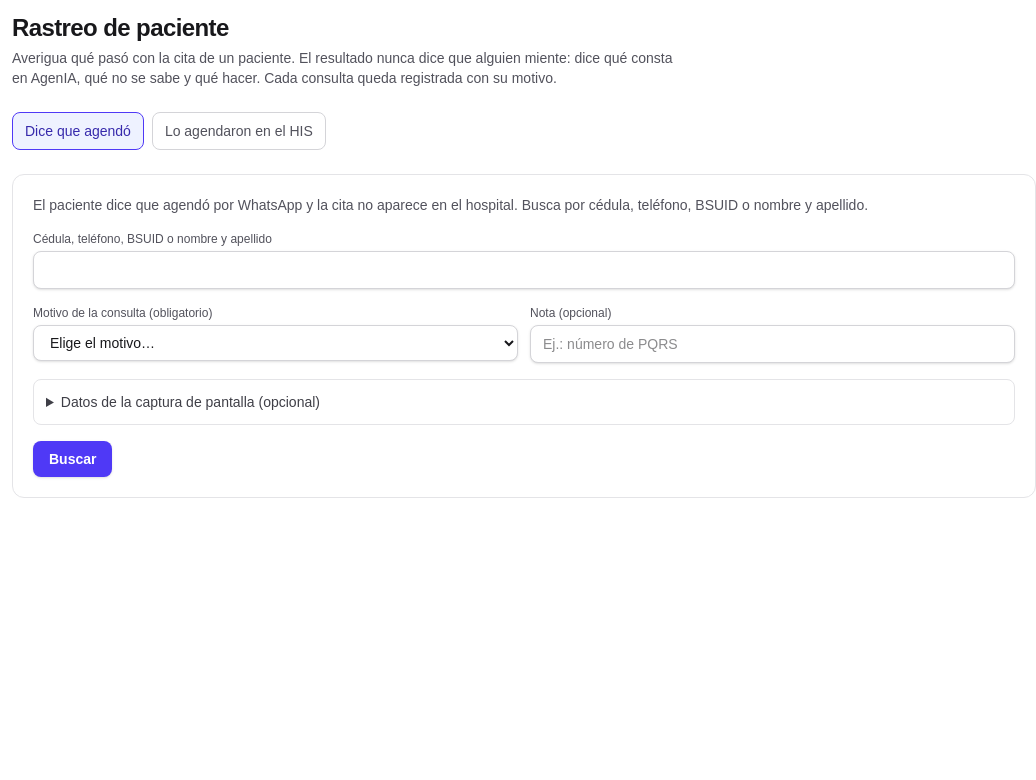
Test: RastreoClient — el formulario › sin nada escrito no se busca
Select "Reclamo o PQRS" in the dropdown labelled "Motivo de la consulta (obligatorio)". click: (276,343)
box: [33, 325, 518, 361]
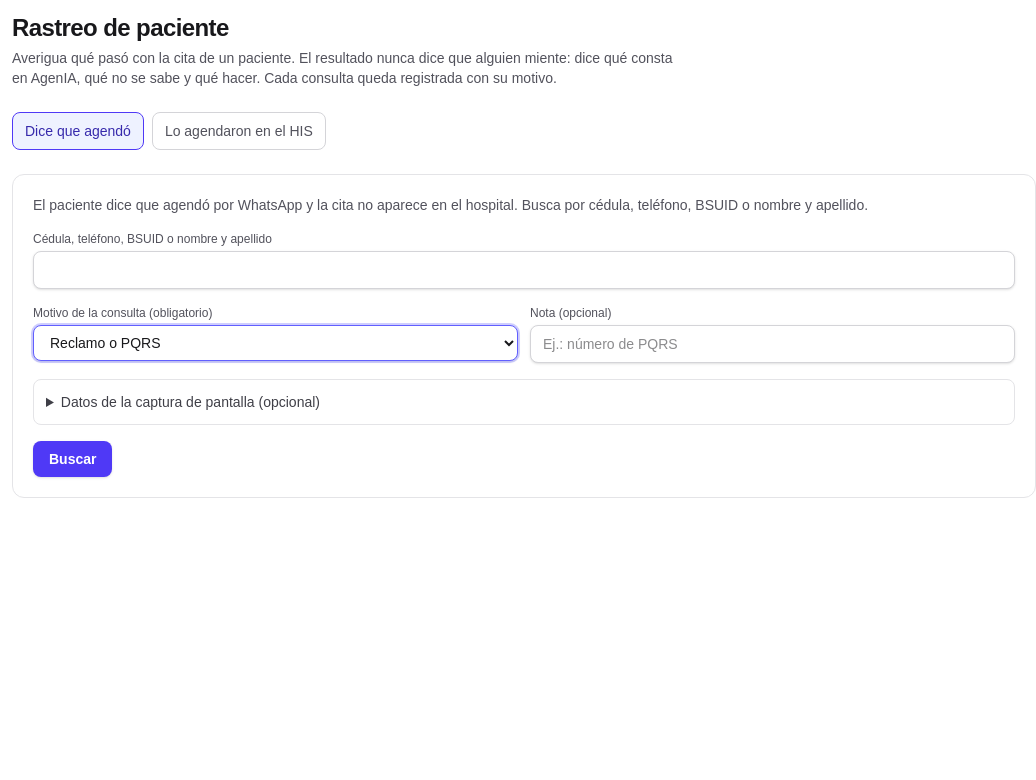
Click the button "Buscar". click: (73,459)
box: [33, 441, 112, 477]
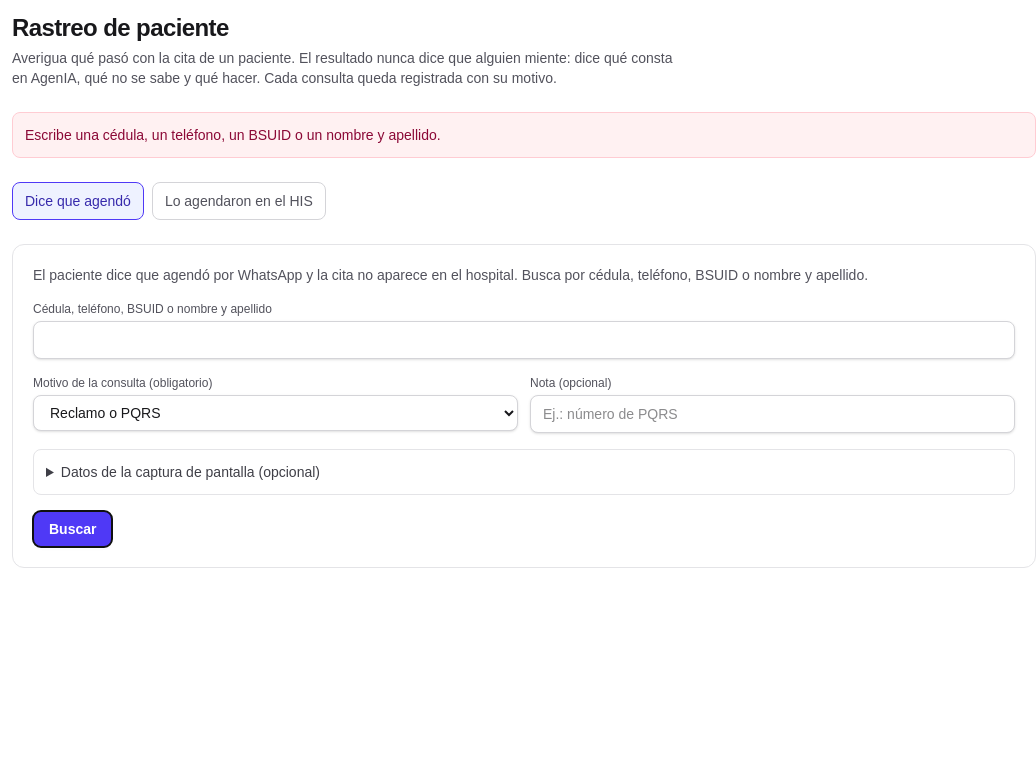
Result: the message shows "Escribe una cédula" at [25, 127, 441, 143]
